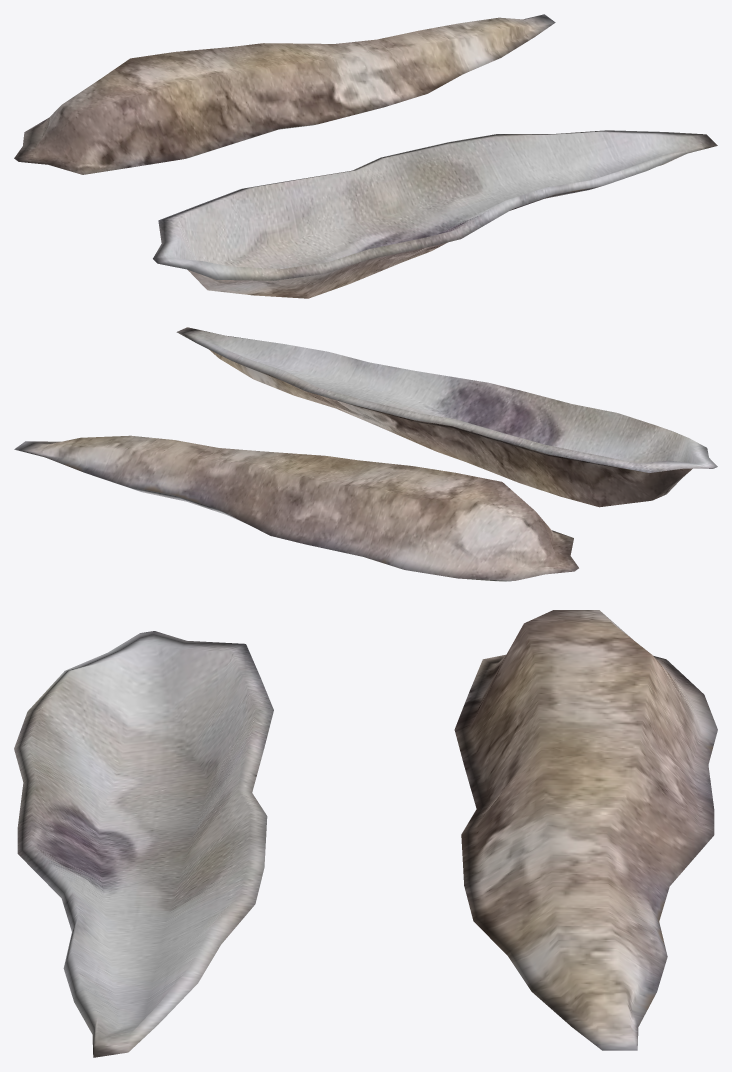
The model's file is muli.FBX.
3 views of the same model, one above another, from view 1: azimuth 30°, elevation 25°; view 2: azimuth 150°, elevation 25°; view 3: azimuth 270°, elevation 25° (orthographic). The views are drawn at different scales.
Parts seen in each view (by area): view 1: Box003, Box002; view 2: Box002, Box003; view 3: Box002, Box003.
Part boxes in pixels (<box>): Box003: <box>153,130,717,298</box>; Box002: <box>14,14,555,174</box>; Box002: <box>14,435,578,581</box>; Box003: <box>176,327,717,507</box>; Box002: <box>454,610,717,1050</box>; Box003: <box>14,631,273,1057</box>.
Bounding box in the file's own units: 48.92 × 9.43 × 34.83.
Materials: 1 (1 with a texture image).
